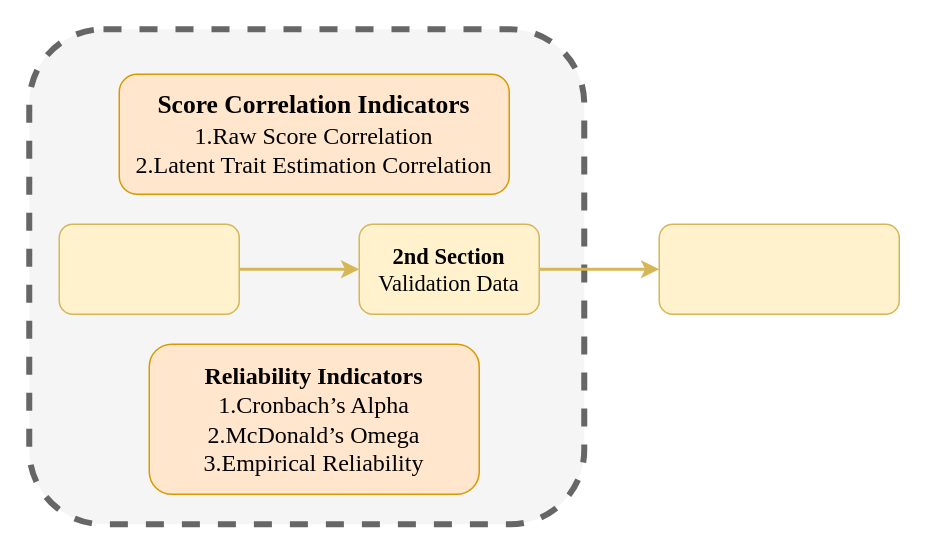
This 926x552 diagram has some shape labels left out. The centre of each missing label's shape, as x and y in pixels:
1st Section Development Data: the point at 148,268
3rd Section Content Validity Analysis: the point at 778,268
